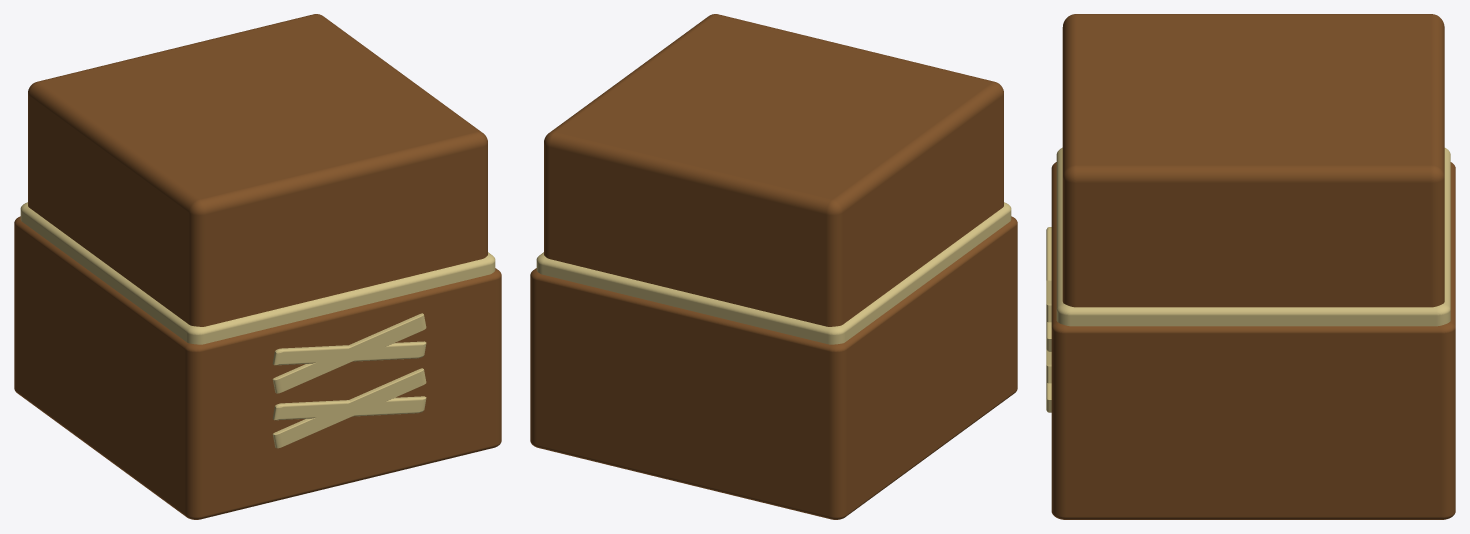
The model's file is PaddedPantsLowerLegs.fbx.
3 views of the same model, side by side, from view 1: azimuth 30°, elevation 25°; view 2: azimuth 150°, elevation 25°; view 3: azimuth 270°, elevation 25° (orthographic). The views are drawn at different scales.
Parts seen in each view (by area): view 1: Upper Right Leg.001, Upper Right Leg.002, Upper Right Leg.003, Upper Right Leg.005, Upper Right Leg.004; view 2: Upper Right Leg.001, Upper Right Leg.002, Upper Right Leg.003; view 3: Upper Right Leg.001, Upper Right Leg.002, Upper Right Leg.003, Upper Right Leg.005.
Part boxes in pixels (x1,y1,x2,y2): Upper Right Leg.001: (28, 14, 487, 326); Upper Right Leg.002: (14, 216, 501, 519); Upper Right Leg.003: (20, 202, 495, 344); Upper Right Leg.005: (272, 313, 426, 393); Upper Right Leg.004: (272, 368, 426, 448); Upper Right Leg.001: (544, 14, 1003, 326); Upper Right Leg.002: (530, 216, 1017, 519); Upper Right Leg.003: (536, 202, 1011, 344); Upper Right Leg.001: (1062, 14, 1444, 307); Upper Right Leg.002: (1051, 162, 1455, 519); Upper Right Leg.003: (1056, 147, 1450, 326); Upper Right Leg.005: (1046, 227, 1051, 351).
Size of the model in its own units: 108 by 103 by 109.
